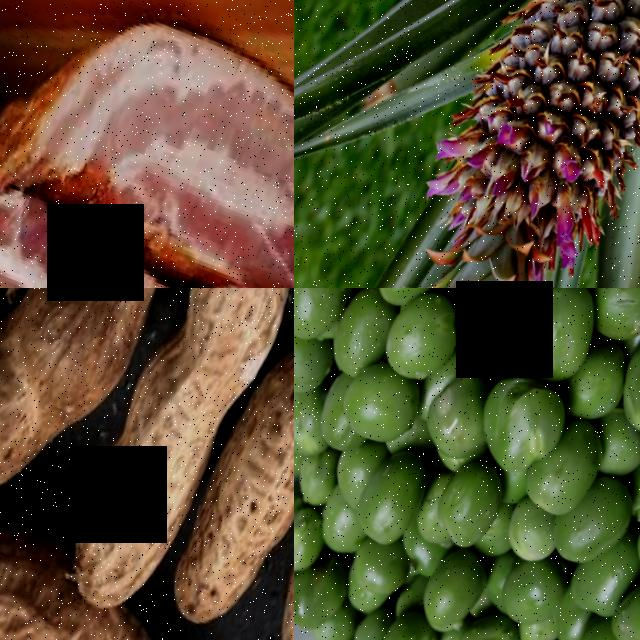peanuts: (50, 288, 294, 628), (155, 309, 294, 640), (0, 288, 216, 493), (0, 503, 86, 640)
peas: (294, 288, 640, 640)
pineapple: (394, 0, 640, 288)
pork belly: (0, 0, 294, 288), (0, 134, 294, 288)
